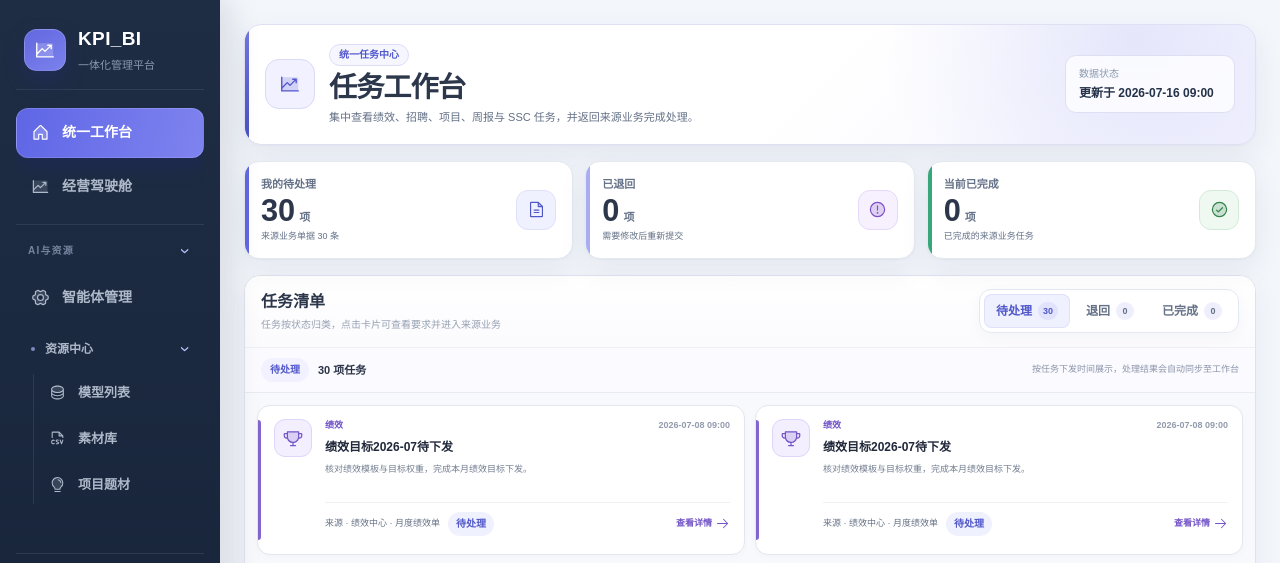
KPI_BI 一体化管理平台 › 经营驾驶舱移除头部辅助操作并将分析维度放在标题区
Click the button "经营驾驶舱" at {"x": 110, "y": 186}, box [16,162,204,212]
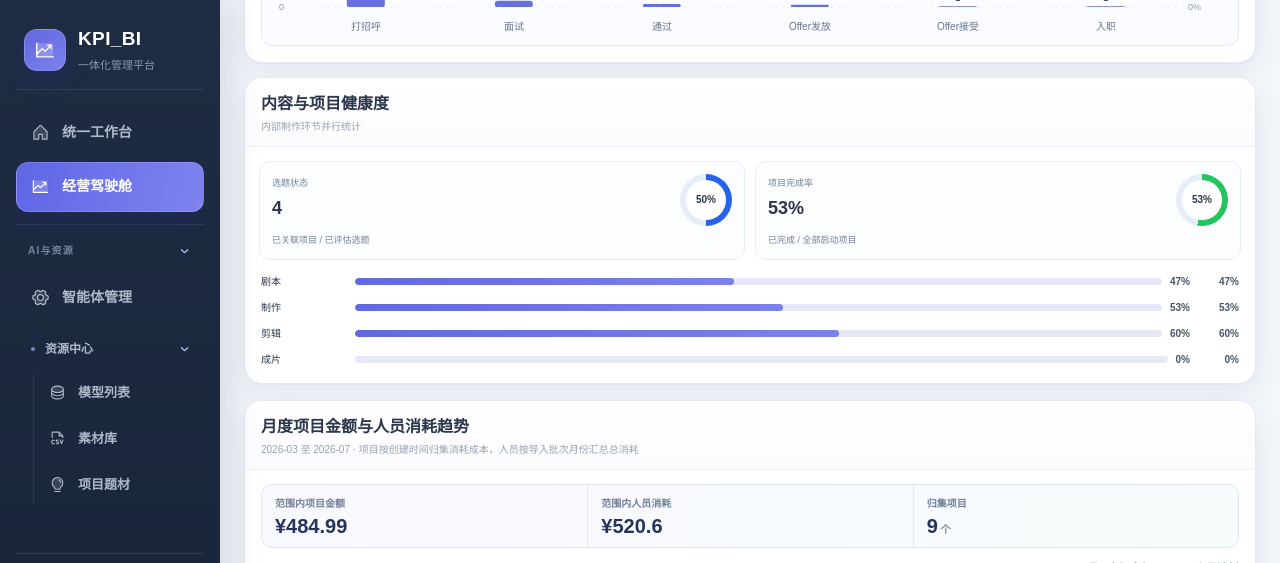
Expected: the text "数据状态" is gone
Expected: the heading "月度项目金额与人员消耗趋势" is shown, [261,418,469,435]
Expected: the text "剧本" is shown, [261,276,281,287]
